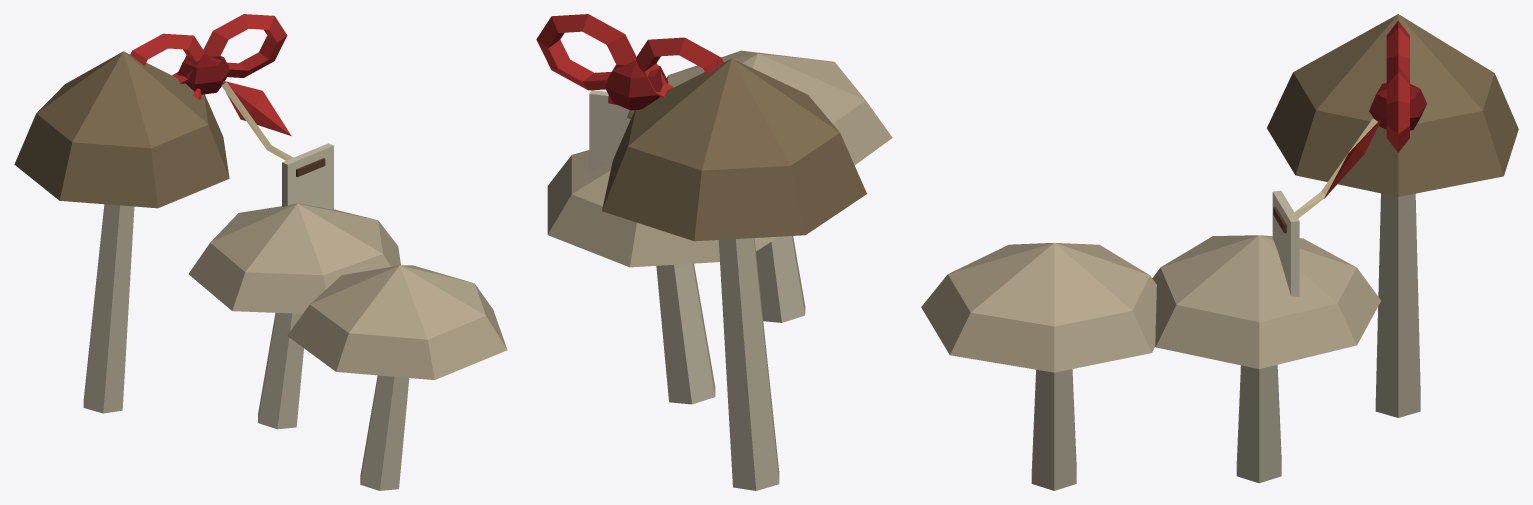
File: quest_cave_mushrooms.glb
The picture shows the model from 3 angles, left to right: view 1: azimuth 30°, elevation 25°; view 2: azimuth 150°, elevation 25°; view 3: azimuth 270°, elevation 25°; orthographic projection. The views are drawn at different scales.
Parts seen in each view (by area): view 1: quest_cave_mushrooms; view 2: quest_cave_mushrooms; view 3: quest_cave_mushrooms.
Part boxes in pixels (x1,y1,x2,y2): quest_cave_mushrooms: (14,14,507,490); quest_cave_mushrooms: (536,14,892,490); quest_cave_mushrooms: (921,14,1518,490).
Size of the model in its own units: 0.276 by 0.3064 by 0.4.
